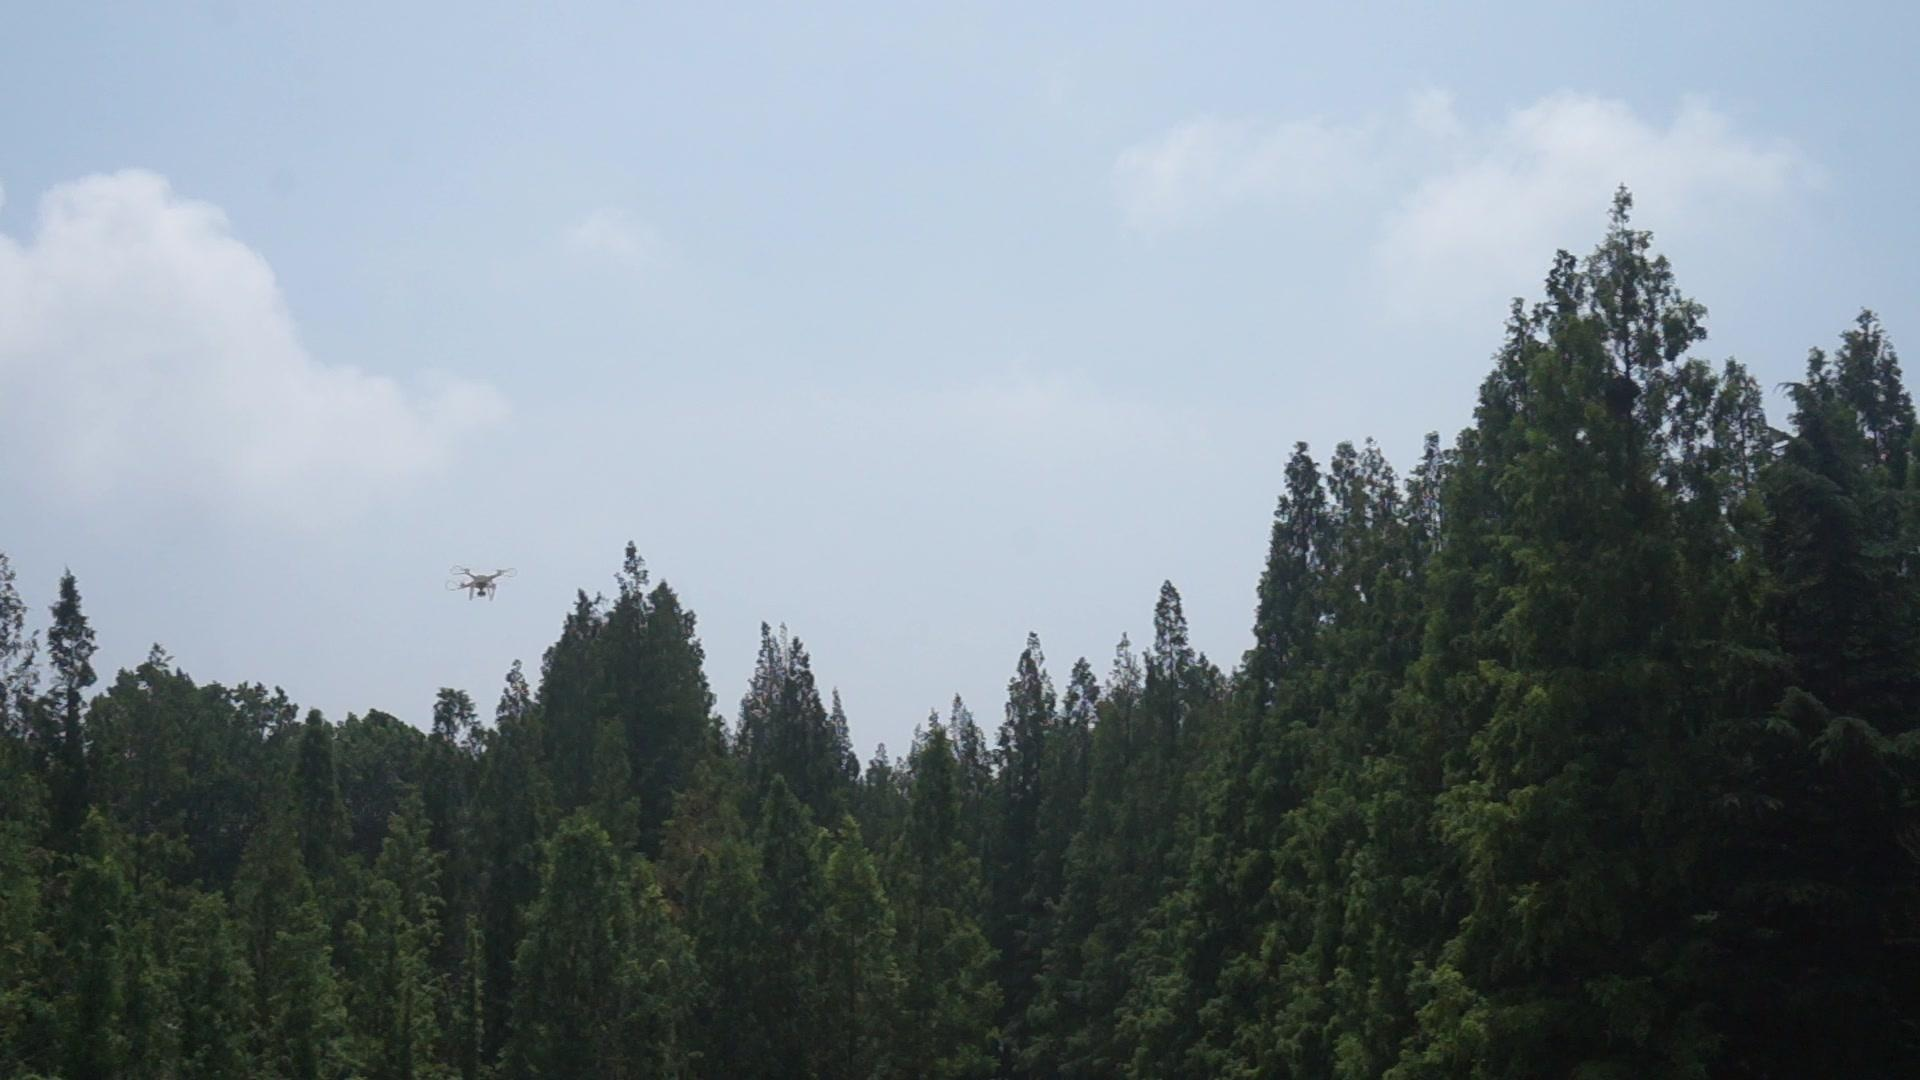UAV: (446, 564, 518, 603)
